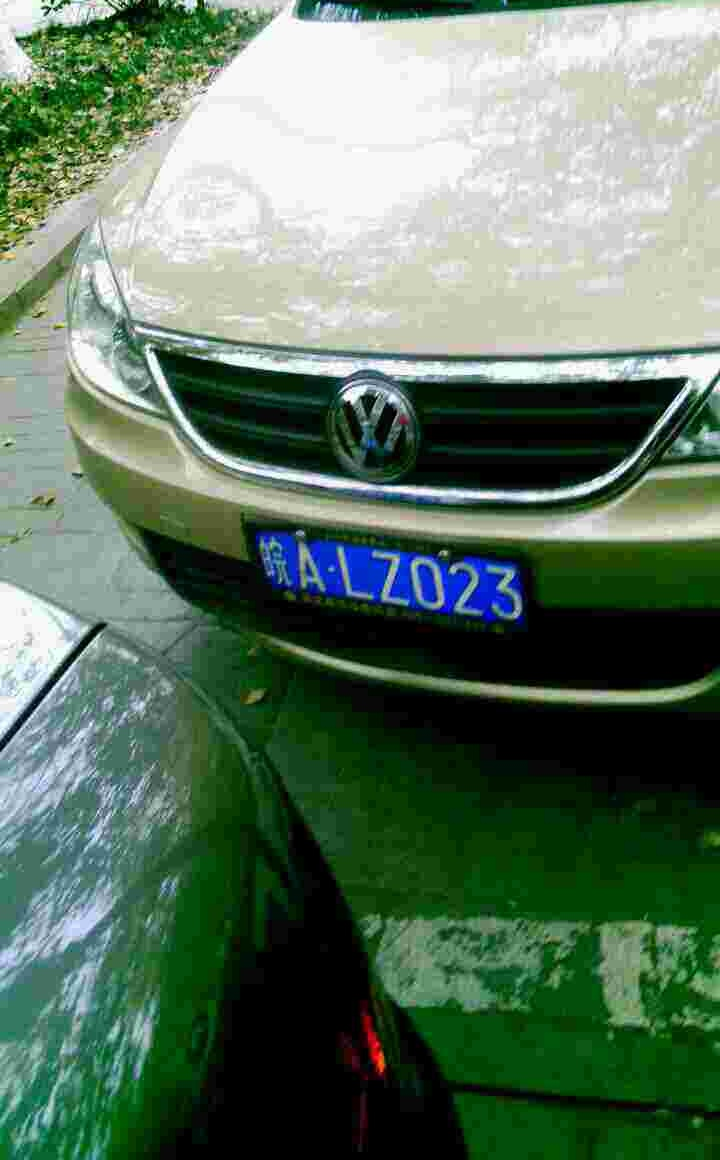license_plate: (255, 525, 527, 631)
